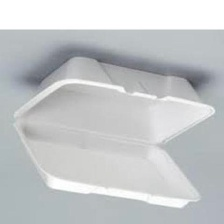foam_box: (8, 51, 221, 213)
